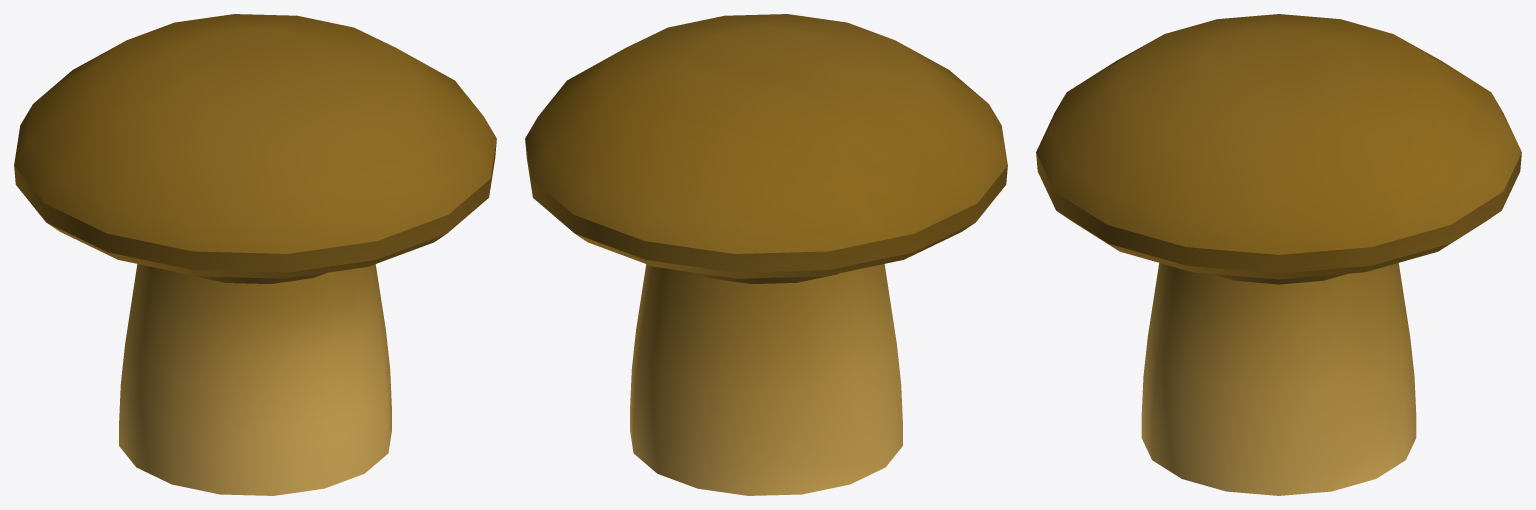
Rendered from tanaman_jamur fix.fbx.
The picture shows the model from 3 angles, left to right: view 1: azimuth 30°, elevation 25°; view 2: azimuth 150°, elevation 25°; view 3: azimuth 270°, elevation 25°; orthographic projection.
Parts seen in each view (by area): view 1: Cylinder.003; view 2: Cylinder.003; view 3: Cylinder.003.
Boxes of the visible parts, x1,y1,x2,y2 form: Cylinder.003: (14, 14, 496, 495); Cylinder.003: (525, 14, 1007, 495); Cylinder.003: (1036, 14, 1521, 495).
Size of the model in its own units: 928 by 791 by 928.
1 material, 1 textured.
